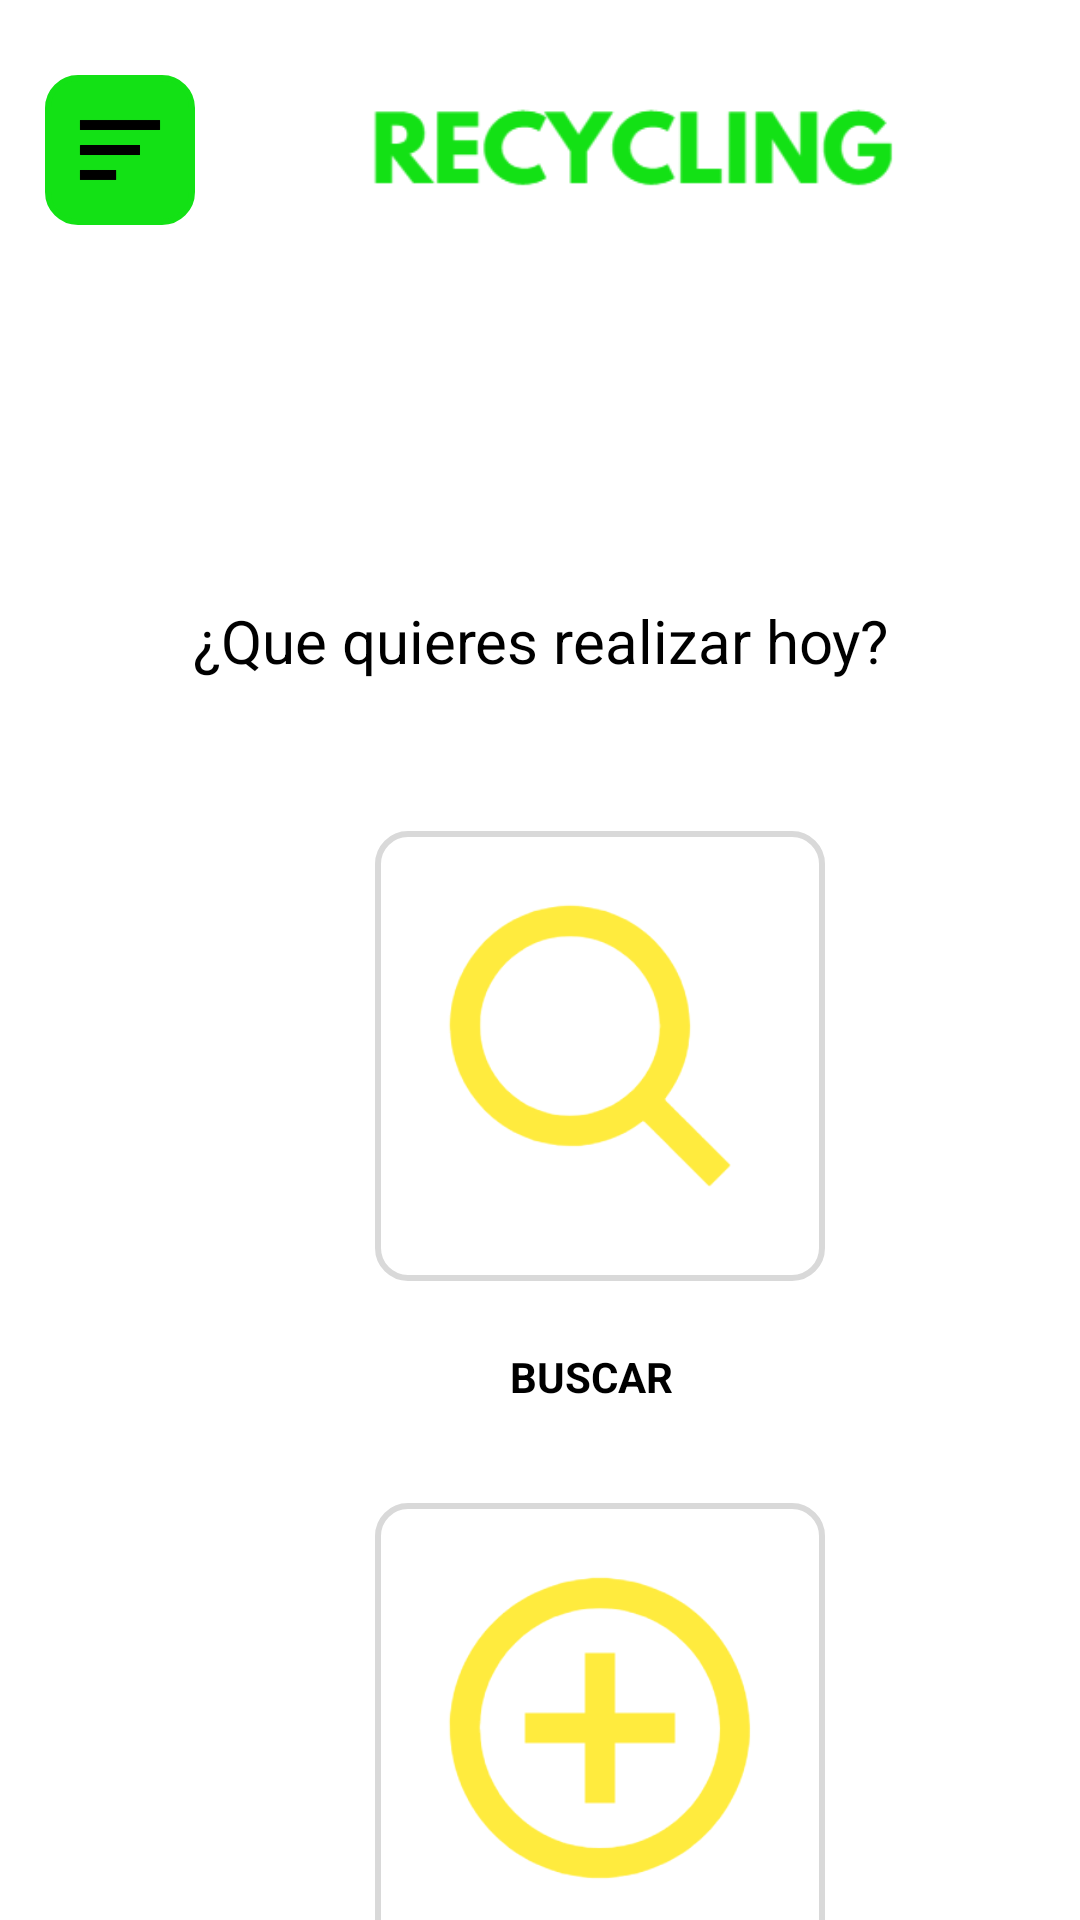

Where to tap for icons on this 1080 × 1920 app screen, as (x,y):
menu: (120,150)
registrar: (599,1728)
